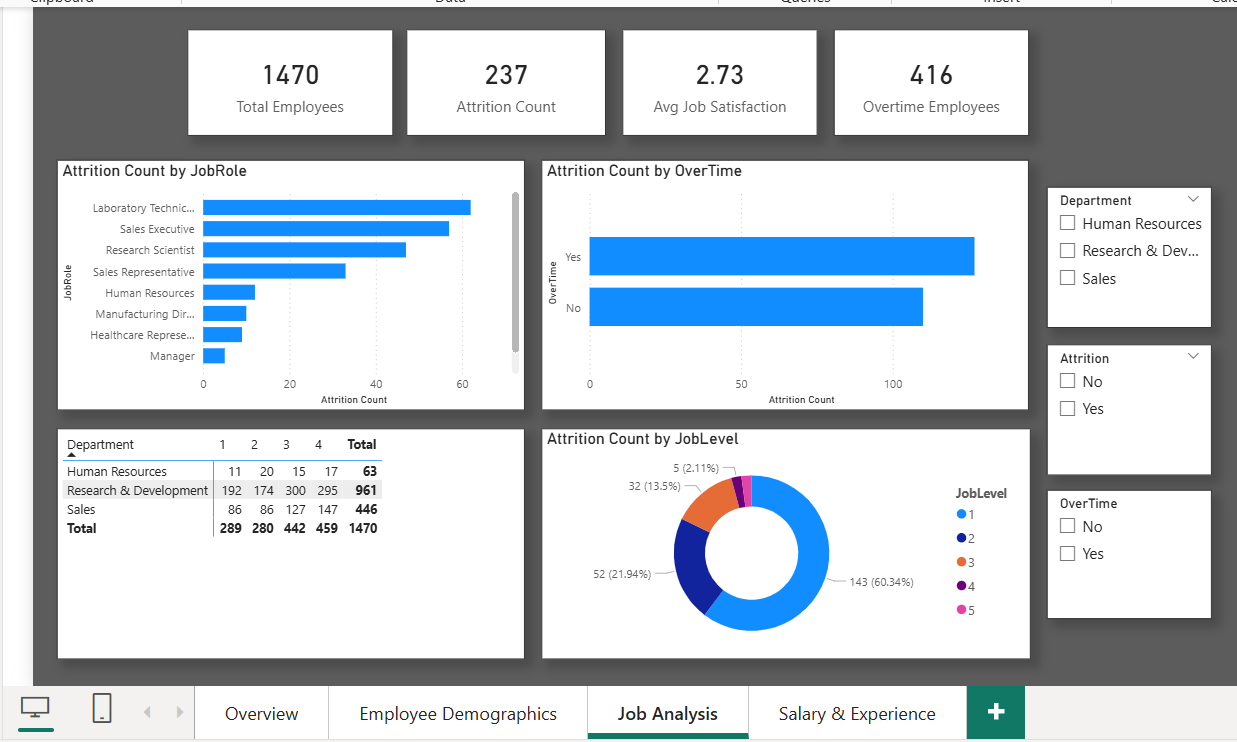

The dashboard page shown, as its layout file describes it:
{"tool":"powerbi","page":{"name":"Job Analysis","canvas":[1280,720],"ordinal":2},"visuals":[{"type":"clusteredBarChart","fields":{"Y":["Dax Measures.Attrition Count"],"Category":["HR Data.JobRole"]},"box":[25.4,162.2,496.3,265.6],"z":0},{"type":"pivotTable","fields":{"Rows":["HR Data.Department"],"Columns":["HR Data.JobSatisfaction"],"Values":["Dax Measures.Total Employees"]},"box":[25.4,447,496.3,245],"z":1000},{"type":"clusteredBarChart","fields":{"Category":["HR Data.OverTime"],"Y":["Dax Measures.Attrition Count"]},"box":[539.2,162.2,516.9,265.6],"z":2000},{"type":"card","fields":{"Values":["Dax Measures.Total Employees"]},"box":[163.8,23.9,217.9,112.9],"z":3000},{"type":"card","fields":{"Values":["Dax Measures.Attrition Count"]},"box":[396.1,23.9,211.6,112.9],"z":4000},{"type":"card","fields":{"Values":["Dax Measures.Avg Job Satisfaction"]},"box":[625.1,23.9,206.8,112.9],"z":5000},{"type":"card","fields":{"Values":["Dax Measures.Overtime Employees"]},"box":[849.4,23.9,206.8,112.9],"z":6000},{"type":"donutChart","fields":{"Category":["HR Data.JobLevel"],"Y":["Dax Measures.Attrition Count"]},"box":[539.2,447,518.5,245],"z":7000},{"type":"slicer","fields":{"Values":["HR Data.Department"]},"box":[1075.3,190.9,175,149.5],"z":8000},{"type":"slicer","fields":{"Values":["HR Data.Attrition"]},"box":[1075.3,357.9,175,138.4],"z":9000},{"type":"slicer","fields":{"Values":["HR Data.OverTime"]},"box":[1075.3,512.2,175,136.8],"z":10000}]}

Visuals, with their boxes on the page's 1280x720 design canvas (x1, y1, x2, y2). These are canvas units, not pixel positions in the 1237x742 screenshot, which may show the page scaled, cropped or inside an application window:
clusteredBarChart - Dax Measures.Attrition Count x HR Data.JobRole: 25,162,522,428
pivotTable - HR Data.Department x HR Data.JobSatisfaction: 25,447,522,692
clusteredBarChart - HR Data.OverTime x Dax Measures.Attrition Count: 539,162,1056,428
card - Dax Measures.Total Employees: 164,24,382,137
card - Dax Measures.Attrition Count: 396,24,608,137
card - Dax Measures.Avg Job Satisfaction: 625,24,832,137
card - Dax Measures.Overtime Employees: 849,24,1056,137
donutChart - HR Data.JobLevel x Dax Measures.Attrition Count: 539,447,1058,692
slicer - HR Data.Department: 1075,191,1250,340
slicer - HR Data.Attrition: 1075,358,1250,496
slicer - HR Data.OverTime: 1075,512,1250,649
